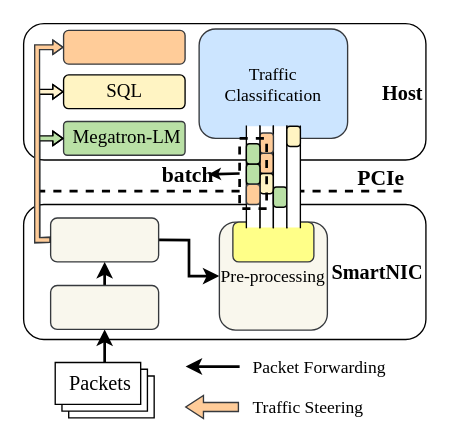
The diagram is 450 pixels wide and 444 high, and some of its shapes have lost their labels. The centre of each missing label's shape, as x and y in pixels:
"Analysis" belongs at pixel 104 239.
"HPC" belongs at pixel 123 46.
"Packet Capturing" belongs at pixel 104 306.
"Scheduler" belongs at pixel 273 241.
